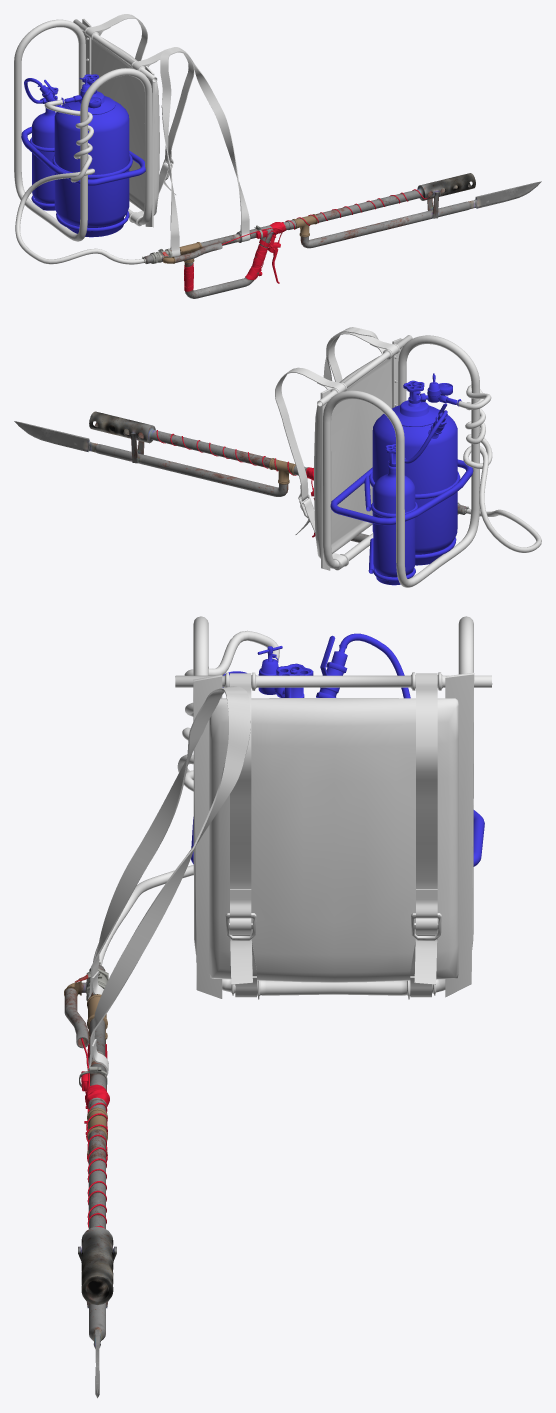
Rendered from flamethrower.fbx.
3 views of the same model, one above another, from view 1: azimuth 30°, elevation 25°; view 2: azimuth 150°, elevation 25°; view 3: azimuth 270°, elevation 25° (orthographic). The views are drawn at different scales.
Visible parts, largest first — view 1: Cylinder, BezierCurve, Plane.004, BezierCurve.005, Cylinder.075, BezierCurve.007, BezierCurve.004, Cylinder.033, Cylinder.053, BezierCurve.001, Cylinder.051, Circle.003 (+5 smaller); view 2: Plane.004, BezierCurve, Cylinder, Cylinder.033, BezierCurve.004, Cylinder.075, BezierCurve.007, Cylinder.053, BezierCurve.001, Cylinder.001, Plane.003, Plane.016 (+4 smaller); view 3: Plane.004, BezierCurve.004, BezierCurve.005, Plane.003, BezierCurve, Cylinder.075, BezierCurve.003, BezierCurve.007, Cylinder.041.
Boxes of the visible parts, box(x1,y1,x2,y2) form: Cylinder: box(54, 101, 129, 237); BezierCurve: box(14, 19, 152, 241); Plane.004: box(91, 38, 159, 215); BezierCurve.005: box(160, 47, 250, 256); Cylinder.075: box(170, 173, 475, 250); BezierCurve.007: box(15, 99, 145, 264); BezierCurve.004: box(85, 14, 194, 226); Cylinder.033: box(32, 108, 55, 210); Cylinder.053: box(300, 200, 475, 248); BezierCurve.001: box(21, 126, 145, 185); Cylinder.051: box(184, 222, 286, 298); Circle.003: box(29, 137, 132, 231); Plane.004: box(314, 356, 391, 558); BezierCurve: box(323, 335, 479, 587); Cylinder: box(372, 409, 457, 565); Cylinder.033: box(373, 469, 415, 585); BezierCurve.004: box(275, 332, 398, 570); Cylinder.075: box(89, 411, 306, 475); BezierCurve.007: box(456, 385, 541, 552); Cylinder.053: box(89, 442, 288, 496); BezierCurve.001: box(330, 459, 473, 525); Cylinder.001: box(388, 391, 439, 426); Plane.003: box(320, 338, 402, 570); Plane.016: box(14, 421, 89, 451); Plane.004: box(209, 698, 458, 982); BezierCurve.004: box(229, 673, 437, 997); BezierCurve.005: box(88, 686, 250, 1076); Plane.003: box(193, 672, 474, 998); BezierCurve: box(193, 616, 473, 999); Cylinder.075: box(81, 992, 113, 1304); BezierCurve.003: box(175, 672, 492, 690); BezierCurve.007: box(93, 630, 279, 965); Cylinder.041: box(316, 635, 347, 697).
Size of the model in its own units: 167 by 74.51 by 63.44.
